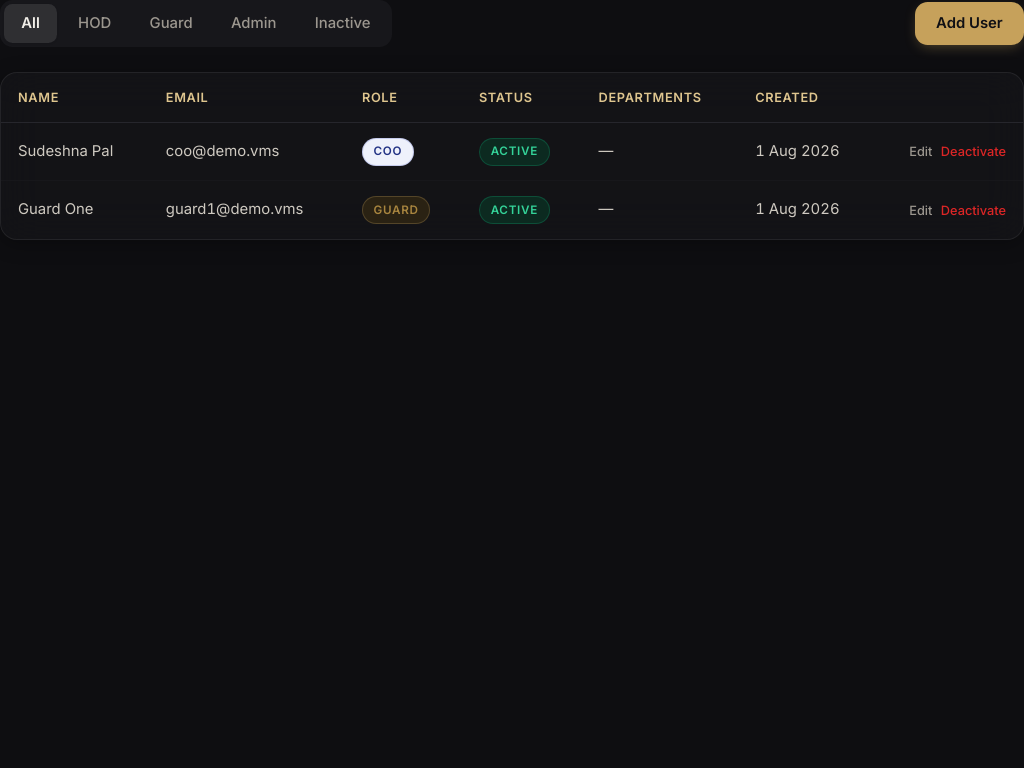
Test: deactivating an office holder (059) › says nothing of the sort about somebody holding no office
Expected: the text "Guard One" is shown, [1,181,149,239]
Click the button "Deactivate" in the row of "Guard One". click: (973, 210)
box: [941,202,1006,218]
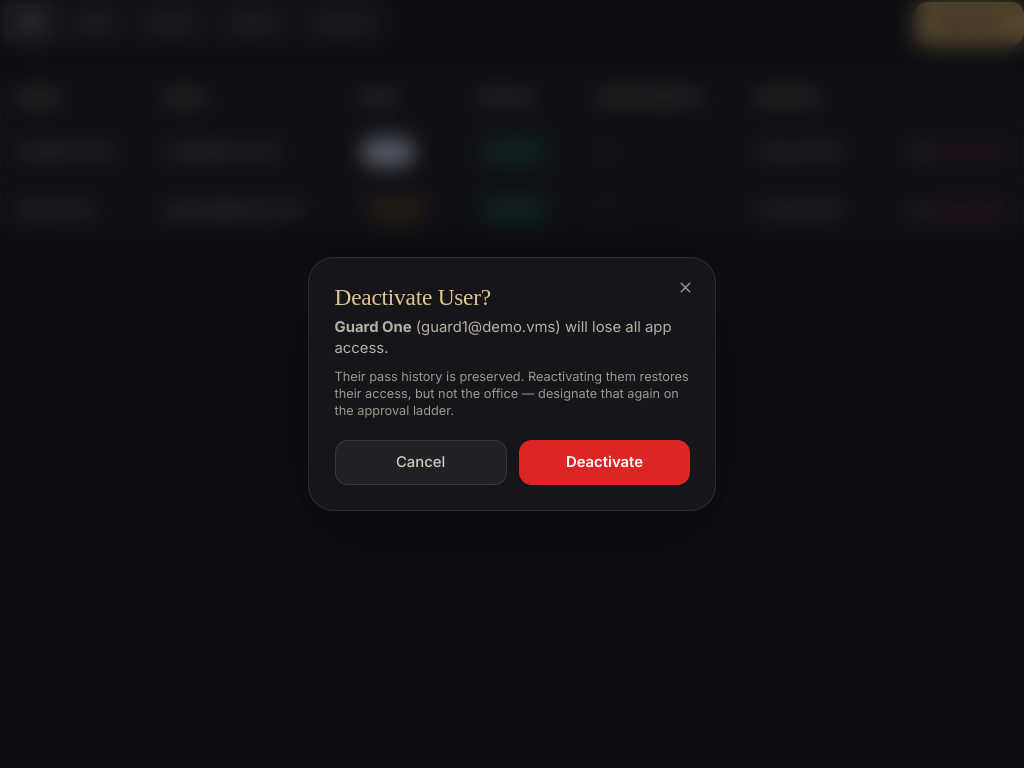
Expected: the heading "Deactivate User?" is shown, [334,284,491,310]
